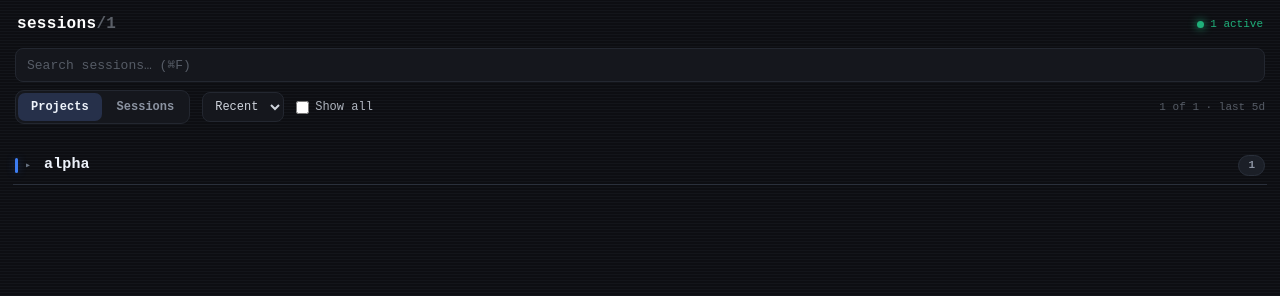
Test: DashboardPage › operators think in projects, so the board should open already ordered by project, not one flat recency stream › opens with every project collapsed and toggles a group when its header is tapped (#2, #3)
The image size is (1280, 296).
Click the button "▸ alpha 1" at (67, 164), box [13,154,1267,184]
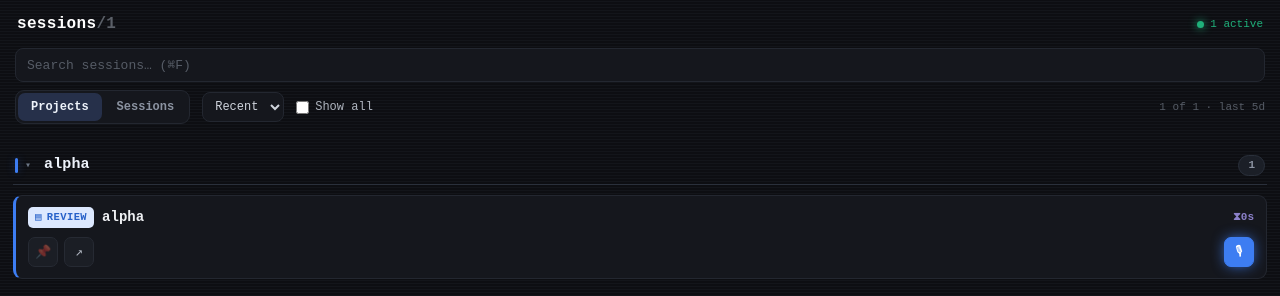
Check: the button "▤ REVIEW alpha ⧗0s 📌 ↗ 🎙" is shown, box [13,194,1267,279]
Click the button "▾ alpha 1" at (67, 164), box [13,154,1267,184]
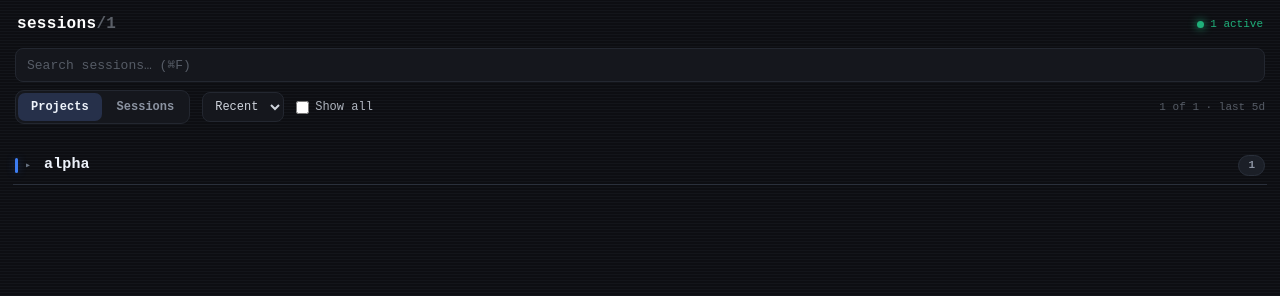
Check: the button "▤ REVIEW alpha ⧗0s 📌 ↗ 🎙" is gone
